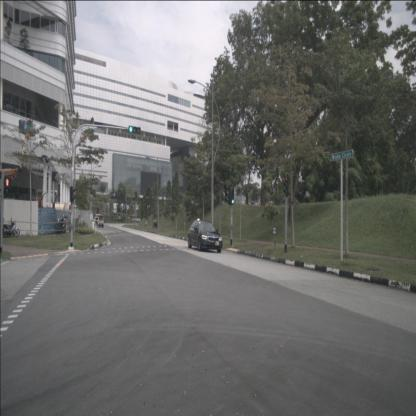vehicle-car: (188, 219, 223, 253), (95, 214, 104, 228)
vehicle-motorcycle: (2, 217, 20, 238), (56, 216, 68, 234), (153, 220, 158, 229)
